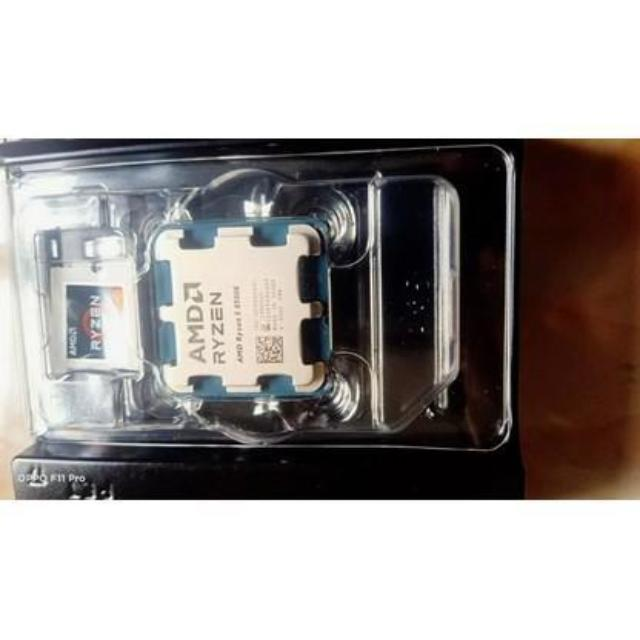CPU: (153, 226, 330, 400)
